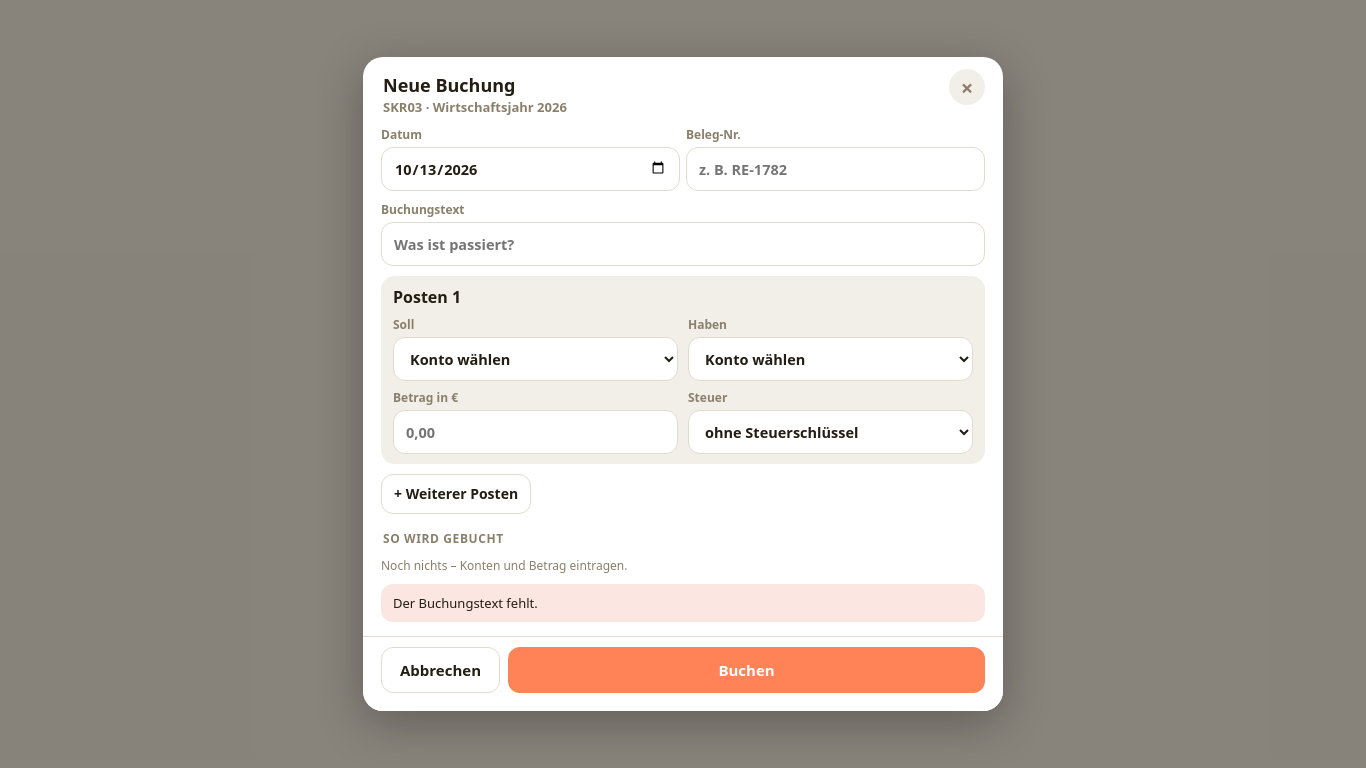
Test: BuchungNeu › zweiter Posten übernimmt den Steuerschlüssel
Type "Rechnung RE-1" into the field with placeholder "Was ist passiert?" at [683, 244], box [381,222,985,266]
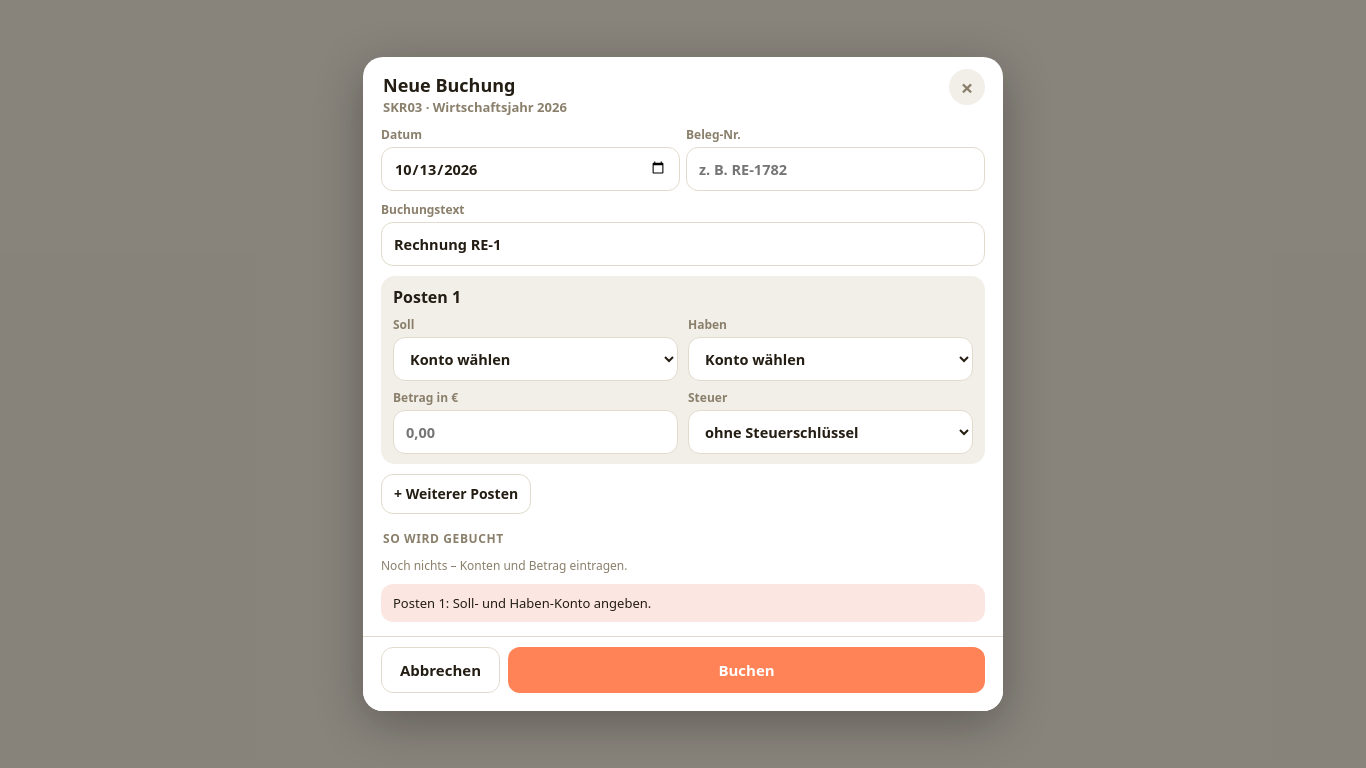
Select "1400 Forderungen" in the dropdown named "Soll-Konto Posten 1" at [536, 359], box [393,337,678,381]
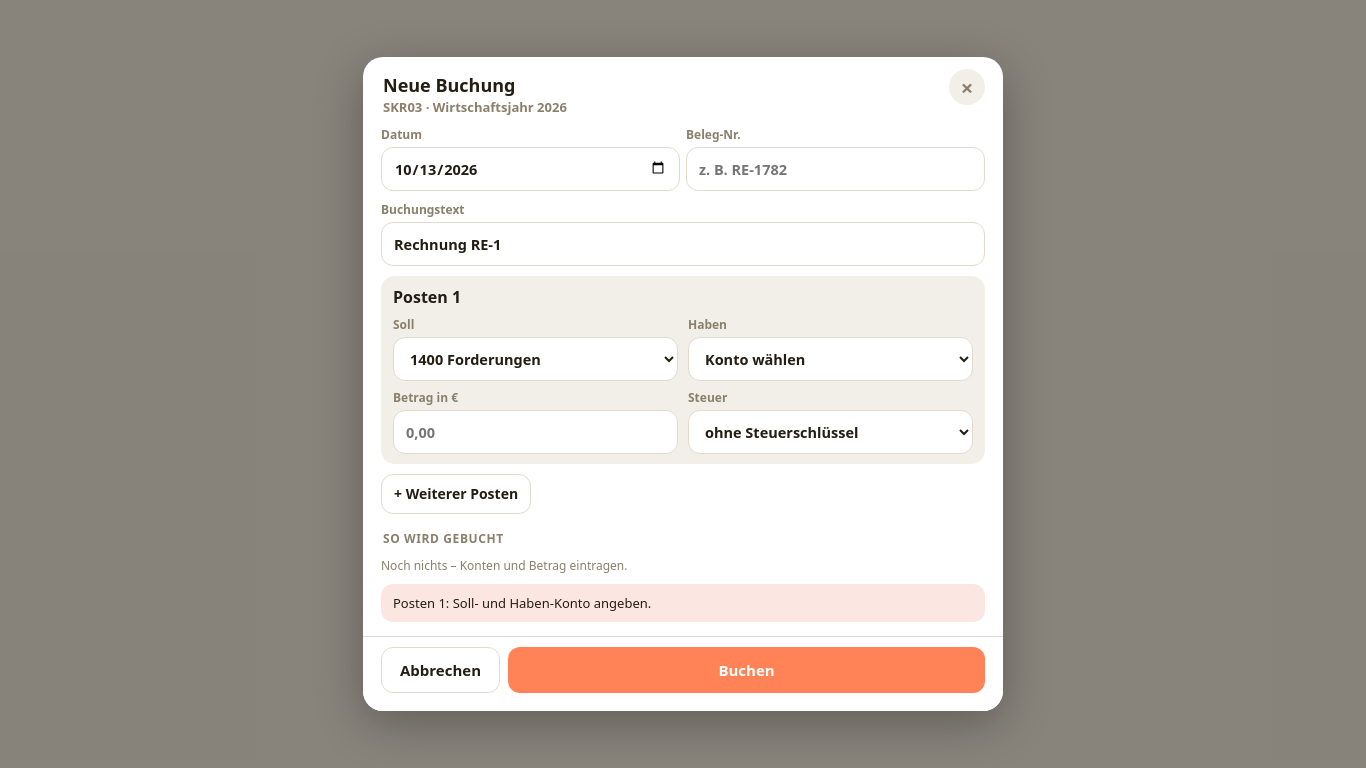
Select "8400 Erlöse 19 %" in the dropdown named "Haben-Konto Posten 1" at [830, 359], box [688,337,973,381]
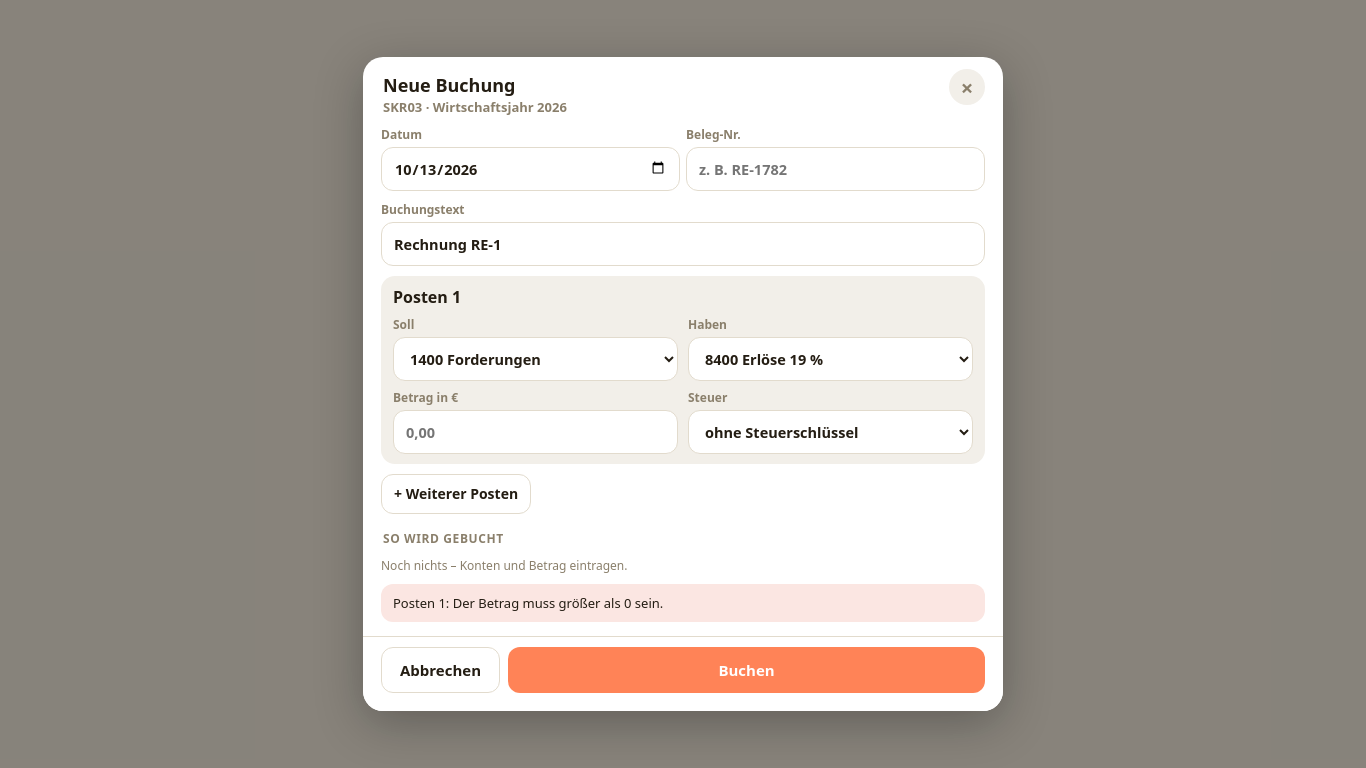
Type "119,00" into the field named "Betrag Posten 1" at [536, 432], box [393,410,678,454]
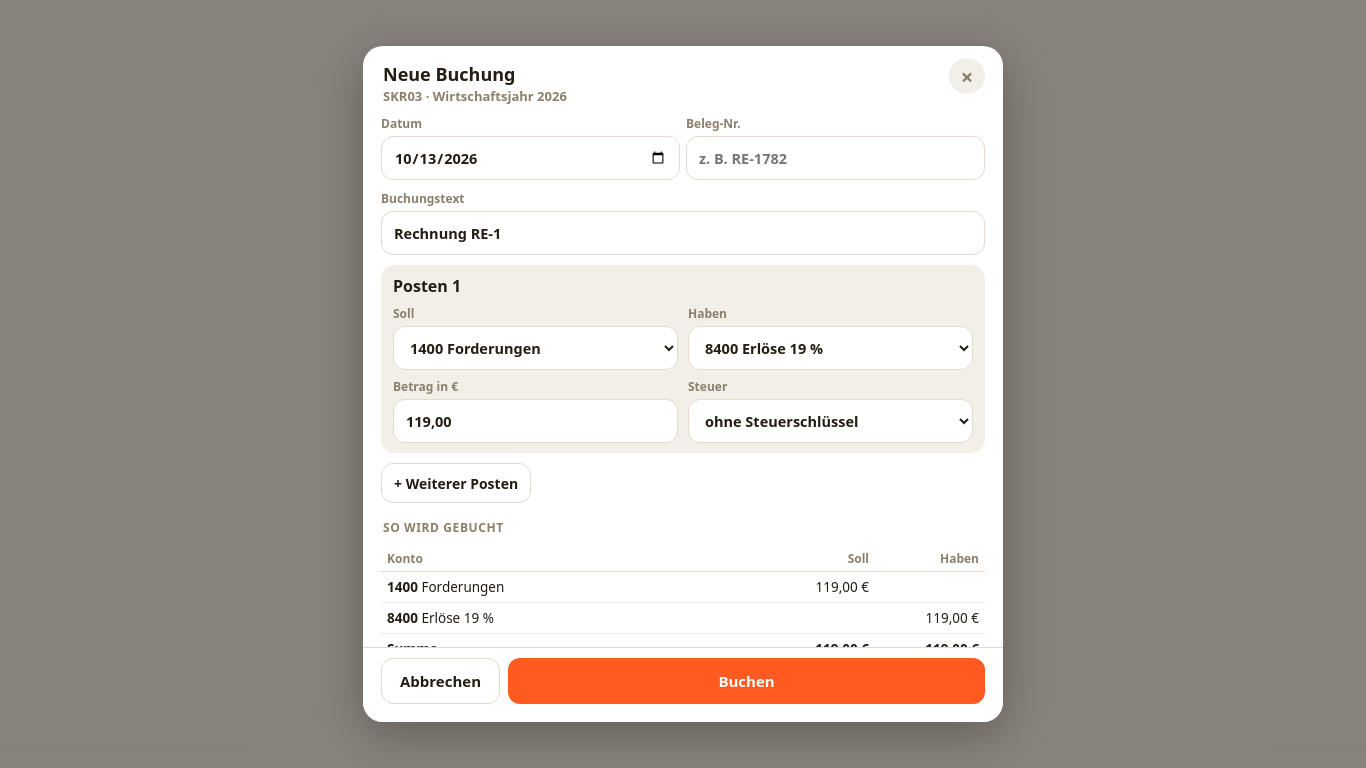
Select "Umsatzsteuer 19 %" in the dropdown named "Steuer Posten 1" at [830, 421], box [688,399,973,443]
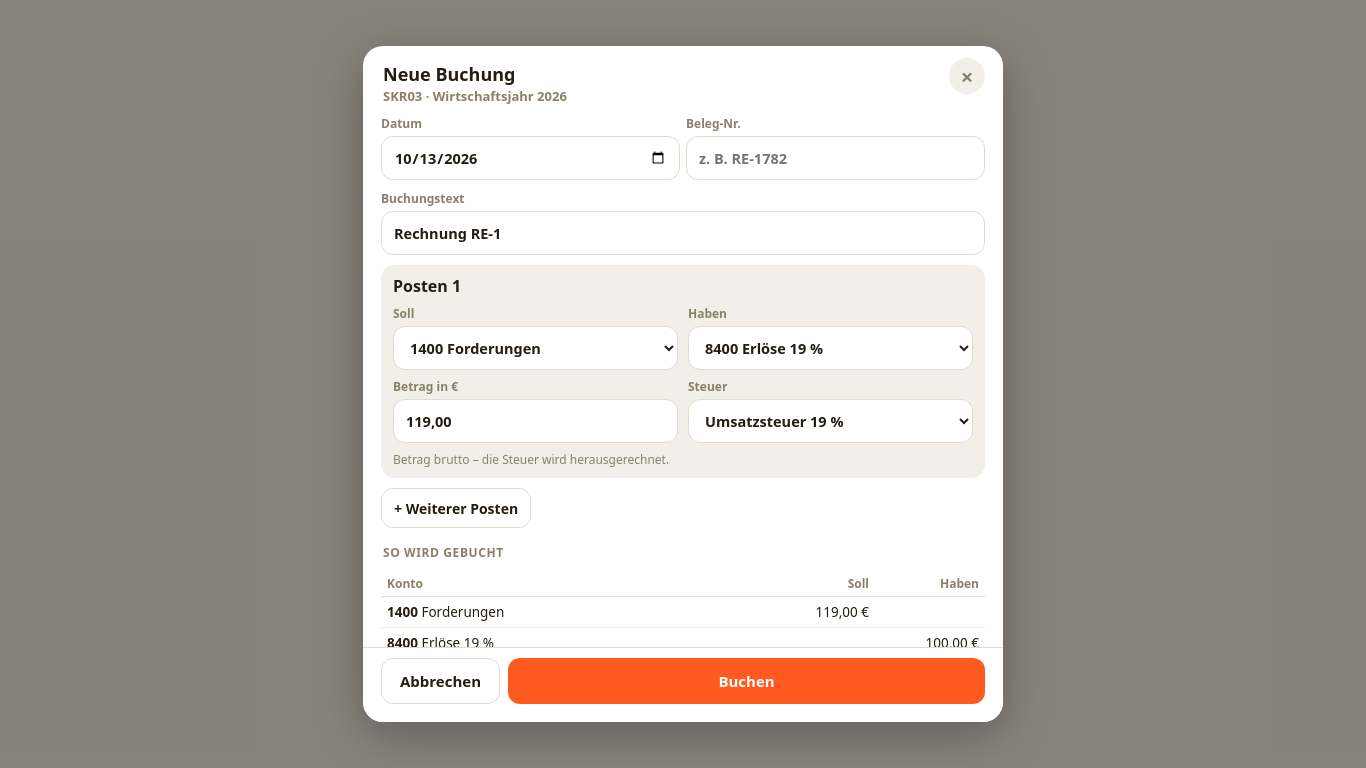
Click the button "+ Weiterer Posten" at [456, 508], box [381,488,531,528]
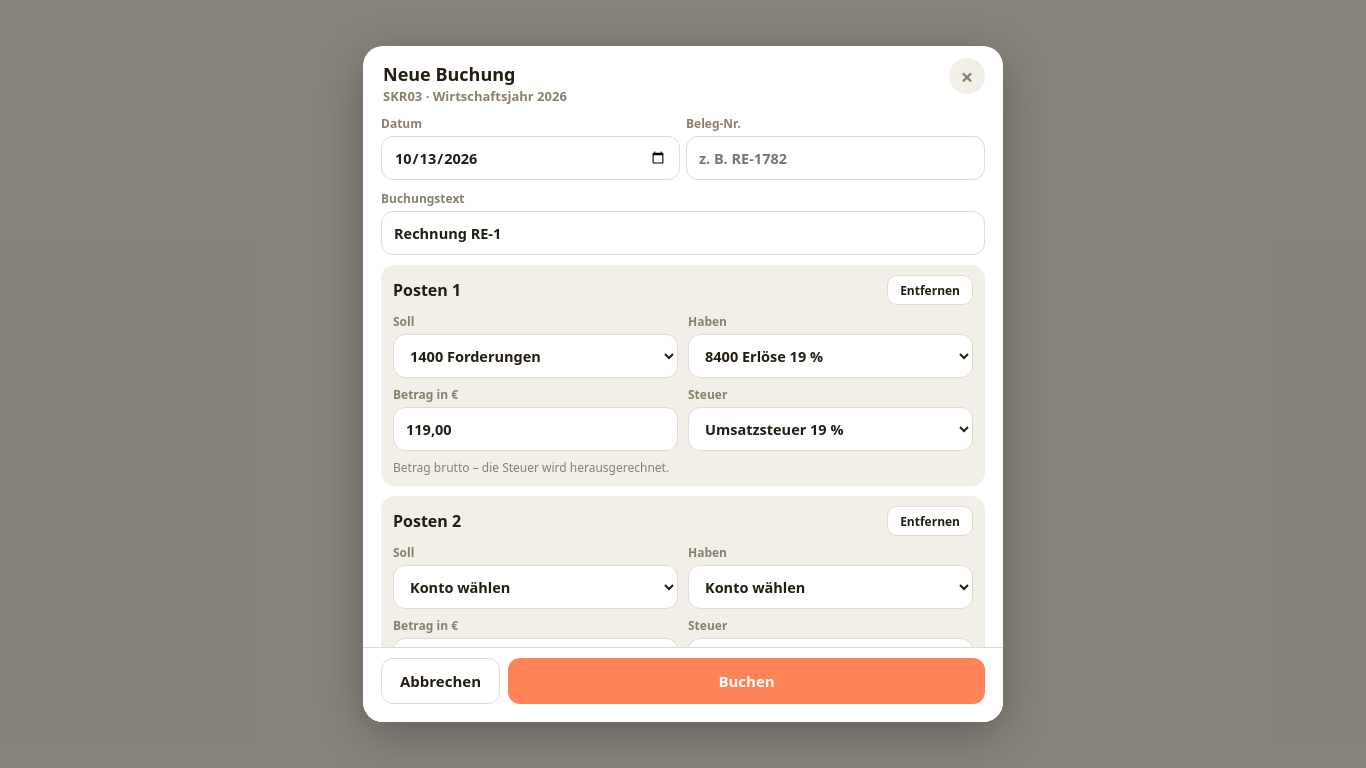
Expected: the dropdown named "Steuer Posten 2" shows "Umsatzsteuer 19 %", [688,638,973,682]
